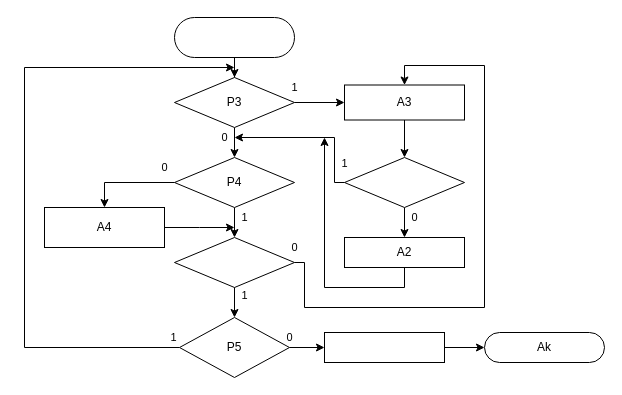
The diagram is 622 pixels wide and 395 high, and some of its shapes have lost their labels. Here are the shapes that lost their labels. From the top down, the centre of each, then its label:
the point at 234,37: A0
the point at 404,182: P1
the point at 234,262: P2
the point at 384,347: A1
